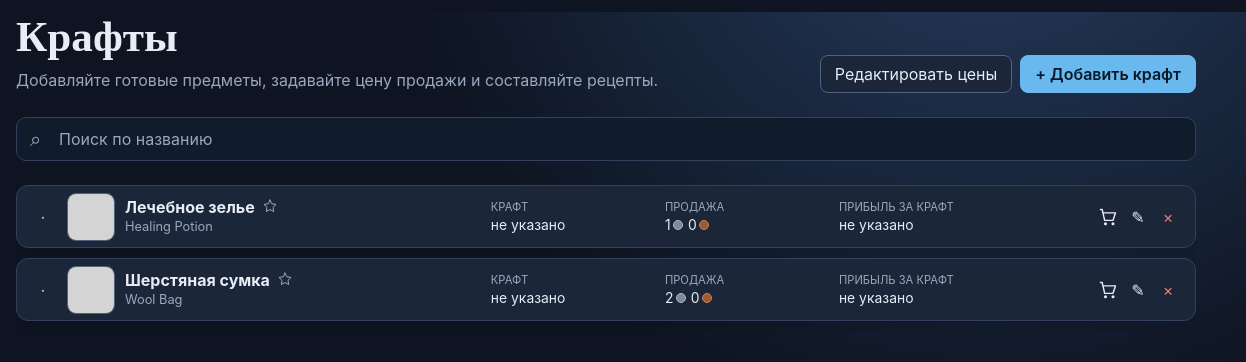
Scenario: ItemsPage: drag › отменяет перенос через escape, не меняя сохранённый порядок
Press the mouse on the text "Шерстяная сумка" at (606, 289), box [16,258,1196,321]
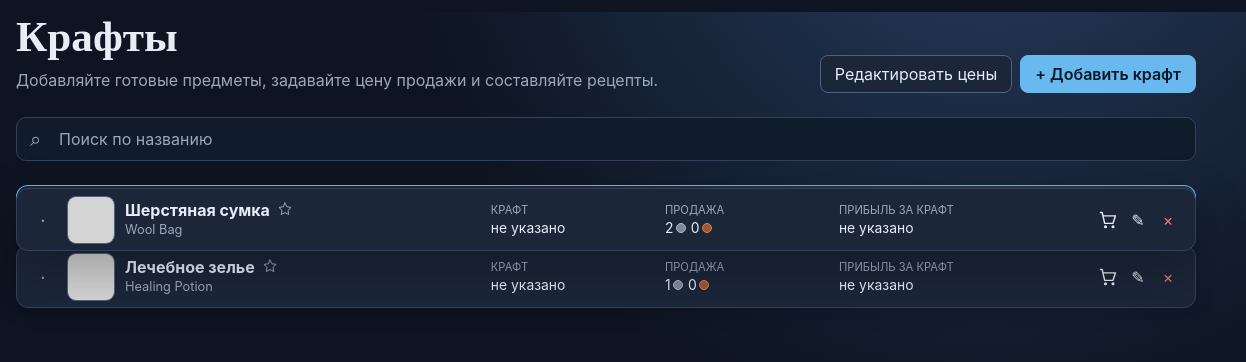
Press Escape
Wait 200 ms
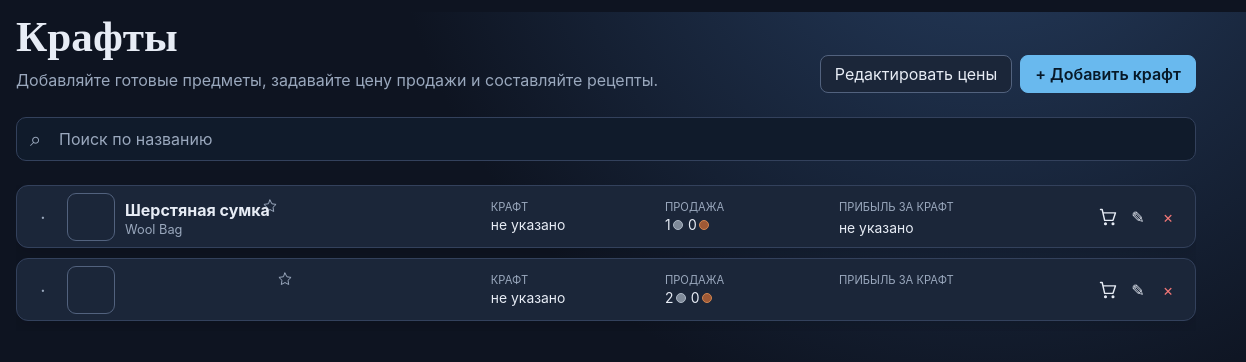
expect the element with class "item-list__drop-gap" is gone: met
